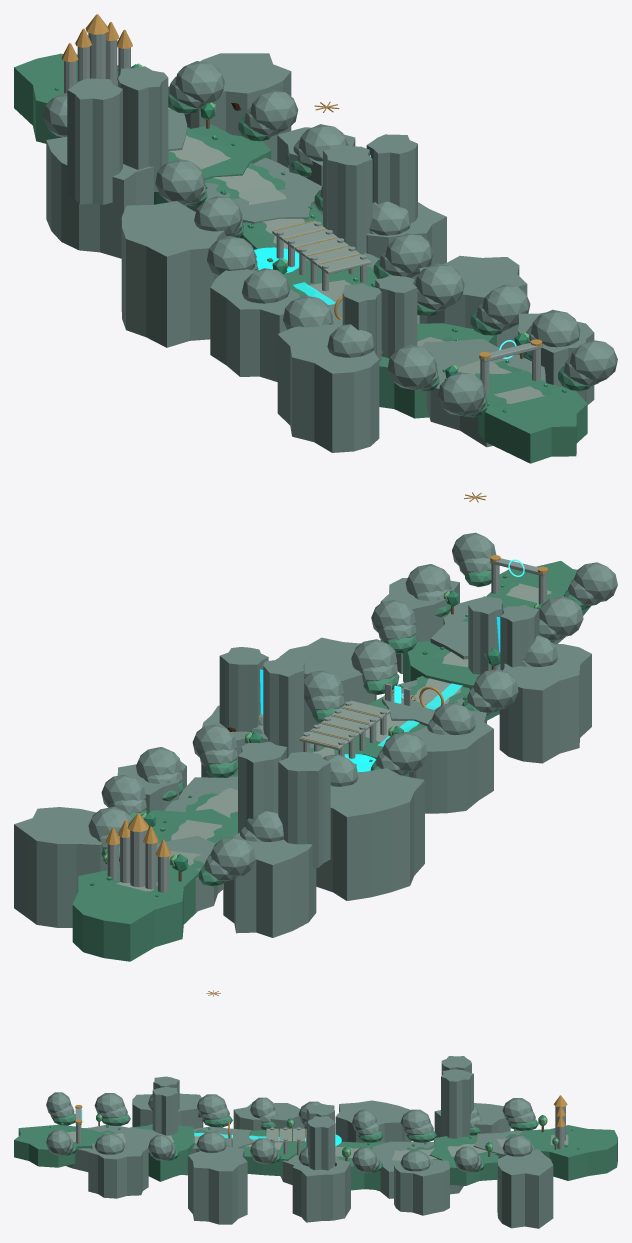
File: waterfall-sanctuary-production-v1.glb
3 views of the same model, one above another, from view 1: azimuth 30°, elevation 25°; view 2: azimuth 150°, elevation 25°; view 3: azimuth 270°, elevation 25° (orthographic). The views are drawn at different scales.
Visible parts, largest first — view 1: STATIC_BATCH_CLIFF_DARK_0, STATIC_BATCH_MOSS_GROUND_0, STATIC_BATCH_CLIFF_DARK_1, WATERFALL_CLIFF_3_-1, STATIC_BATCH_CLIFF_DARK_2, WATERFALL_CLIFF_3_1, WATERFALL_CLIFF_2_-1, STATIC_BATCH_STONE_SUNLIT_0, WATERFALL_CLIFF_2_1, STATIC_BATCH_CLIFF_DARK_3, WATERFALL_CLIFF_1_1, STATIC_BATCH_STONE_SUNLIT_1 (+6 smaller); view 2: STATIC_BATCH_CLIFF_DARK_0, STATIC_BATCH_MOSS_GROUND_0, STATIC_BATCH_CLIFF_DARK_1, WATERFALL_CLIFF_3_-1, STATIC_BATCH_CLIFF_DARK_2, STATIC_BATCH_STONE_SUNLIT_0, WATERFALL_CLIFF_2_-1, WATERFALL_CLIFF_2_1, WATERFALL_CLIFF_3_1, STATIC_BATCH_CLIFF_DARK_3, WATERFALL_CLIFF_1_1, STATIC_BATCH_STONE_SUNLIT_1 (+5 smaller); view 3: STATIC_BATCH_CLIFF_DARK_0, STATIC_BATCH_MOSS_GROUND_0, STATIC_BATCH_CLIFF_DARK_1, WATERFALL_CLIFF_3_1, STATIC_BATCH_CLIFF_DARK_2, WATERFALL_CLIFF_2_1, STATIC_BATCH_CLIFF_DARK_3, WATERFALL_CLIFF_1_1, STATIC_BATCH_STONE_SUNLIT_0, STATIC_BATCH_MOSS_GROUND_2, STATIC_BATCH_STONE_SUNLIT_1, WATERFALL_CLIFF_2_-1 (+1 smaller).
Part boxes in pixels (left/top/right/bottom): STATIC_BATCH_CLIFF_DARK_0: left=46, top=53, right=617, bottom=452; STATIC_BATCH_MOSS_GROUND_0: left=14, top=53, right=589, bottom=463; STATIC_BATCH_CLIFF_DARK_1: left=194, top=185, right=433, bottom=303; WATERFALL_CLIFF_3_-1: left=67, top=78, right=122, bottom=204; STATIC_BATCH_CLIFF_DARK_2: left=155, top=90, right=348, bottom=205; WATERFALL_CLIFF_3_1: left=118, top=66, right=168, bottom=191; WATERFALL_CLIFF_2_-1: left=323, top=145, right=372, bottom=254; STATIC_BATCH_STONE_SUNLIT_0: left=169, top=135, right=545, bottom=403; WATERFALL_CLIFF_2_1: left=366, top=134, right=417, bottom=222; STATIC_BATCH_CLIFF_DARK_3: left=43, top=61, right=224, bottom=137; WATERFALL_CLIFF_1_1: left=375, top=275, right=417, bottom=358; STATIC_BATCH_STONE_SUNLIT_1: left=272, top=220, right=371, bottom=274; STATIC_BATCH_CLIFF_DARK_0: left=14, top=532, right=617, bottom=937; STATIC_BATCH_MOSS_GROUND_0: left=72, top=561, right=591, bottom=961; STATIC_BATCH_CLIFF_DARK_1: left=192, top=670, right=475, bottom=786; WATERFALL_CLIFF_3_-1: left=278, top=752, right=330, bottom=867; STATIC_BATCH_CLIFF_DARK_2: left=101, top=747, right=283, bottom=841; STATIC_BATCH_STONE_SUNLIT_0: left=116, top=583, right=551, bottom=891; WATERFALL_CLIFF_2_-1: left=263, top=656, right=304, bottom=757; WATERFALL_CLIFF_2_1: left=219, top=647, right=268, bottom=731; WATERFALL_CLIFF_3_1: left=238, top=741, right=287, bottom=833; STATIC_BATCH_CLIFF_DARK_3: left=88, top=806, right=255, bottom=881; WATERFALL_CLIFF_1_1: left=468, top=596, right=502, bottom=674; STATIC_BATCH_STONE_SUNLIT_1: left=299, top=700, right=390, bottom=750; STATIC_BATCH_CLIFF_DARK_0: left=46, top=1092, right=553, bottom=1228; STATIC_BATCH_MOSS_GROUND_0: left=14, top=1113, right=617, bottom=1190; STATIC_BATCH_CLIFF_DARK_1: left=250, top=1097, right=380, bottom=1172; WATERFALL_CLIFF_3_1: left=441, top=1069, right=473, bottom=1138; STATIC_BATCH_CLIFF_DARK_2: left=400, top=1105, right=482, bottom=1171; WATERFALL_CLIFF_2_1: left=308, top=1116, right=335, bottom=1170; STATIC_BATCH_CLIFF_DARK_3: left=502, top=1098, right=535, bottom=1156; WATERFALL_CLIFF_1_1: left=152, top=1086, right=177, bottom=1135; STATIC_BATCH_STONE_SUNLIT_0: left=66, top=1131, right=568, bottom=1160; STATIC_BATCH_MOSS_GROUND_2: left=358, top=1127, right=485, bottom=1172; STATIC_BATCH_STONE_SUNLIT_1: left=266, top=1128, right=306, bottom=1142; WATERFALL_CLIFF_2_-1: left=306, top=1103, right=334, bottom=1146.
Bounding box in the file's own units: 78.03 × 77.42 × 237.
14 materials, 1 textured.
